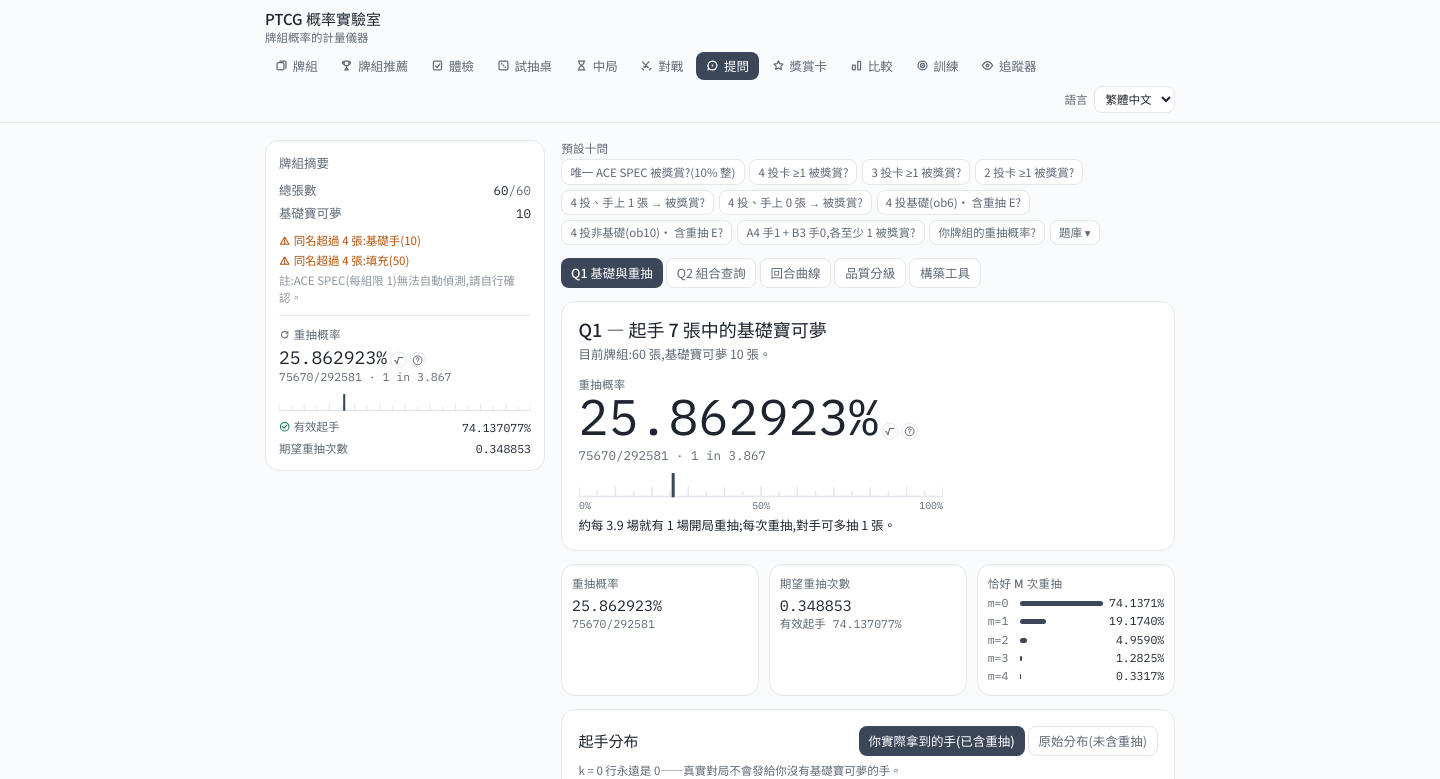
Test: plain-language explainer button (Q1) › opens the explainer modal with the plain words and the concrete receipt
The width and height of the screenshot is (1440, 779).
# Q1 headline's explainer (distinct from the aside mulligan's by title).
Click the button named "白話詳解「起手重抽概率」".
click(909, 431)  # box [901,423,918,439]
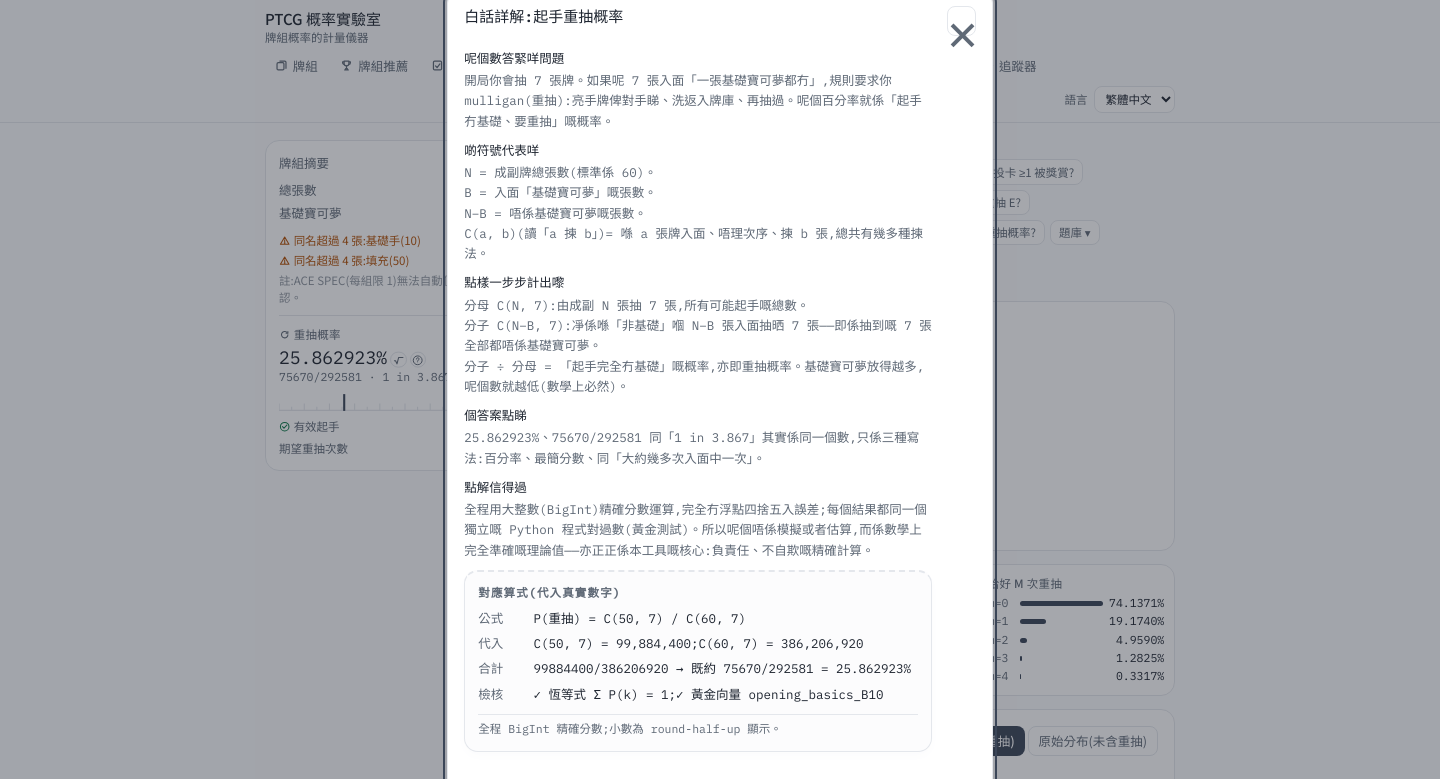
Result: the heading "呢個數答緊咩問題" is shown at [464,50,564,66]
Result: the text "開局你會抽 7 張牌" is shown at [464,72,922,128]
Result: the text "對應算式(代入真實數字)" is shown at [478,585,621,600]
